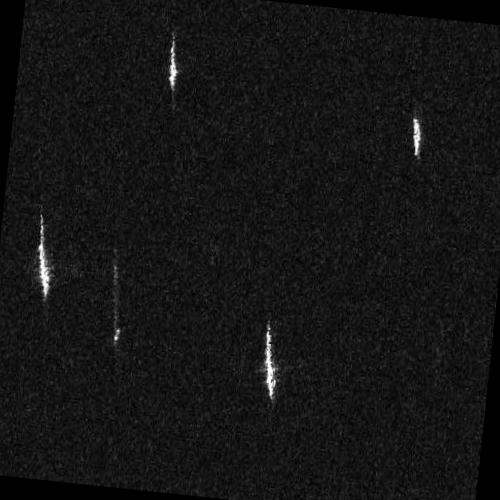ship: (36, 213, 50, 301), (264, 324, 277, 400), (112, 259, 120, 346), (167, 36, 178, 92), (412, 116, 423, 158)
